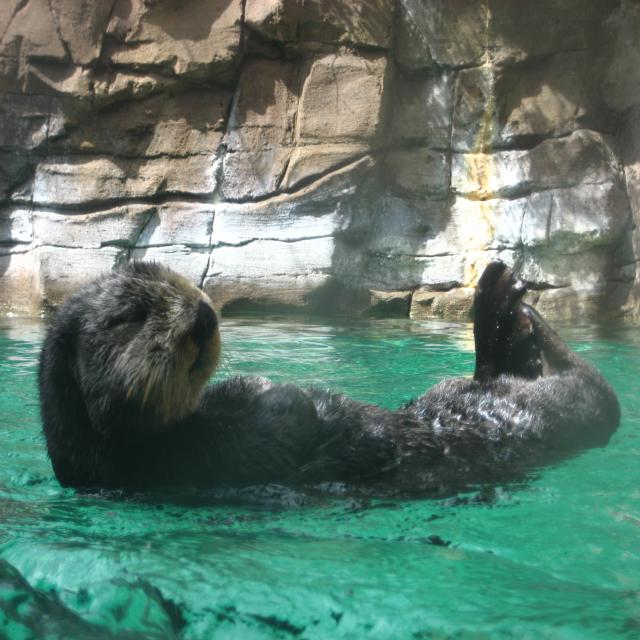otter: (38, 253, 620, 491)
